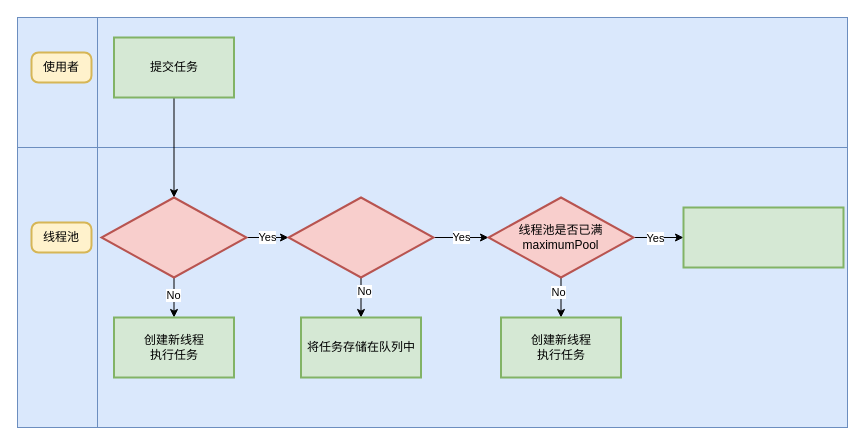
This 865x445 diagram has some shape labels left out. Each missing label, with the box of its shape:
按照策略 处理无法执行的任务 RejectedExecutionHandler: (682, 206, 844, 268)
核心线程池是否已满 corePoolSize: (100, 196, 247, 278)
队列是否已满 workQueue: (287, 196, 434, 278)
